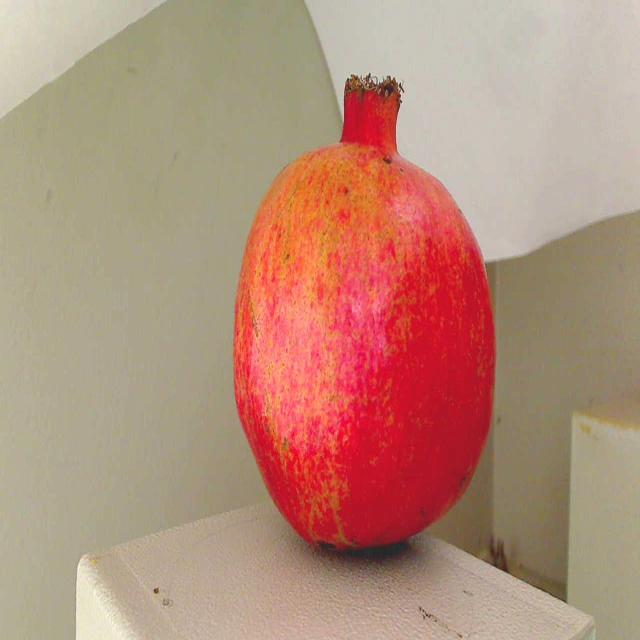pomegranate: (220, 69, 504, 553)
